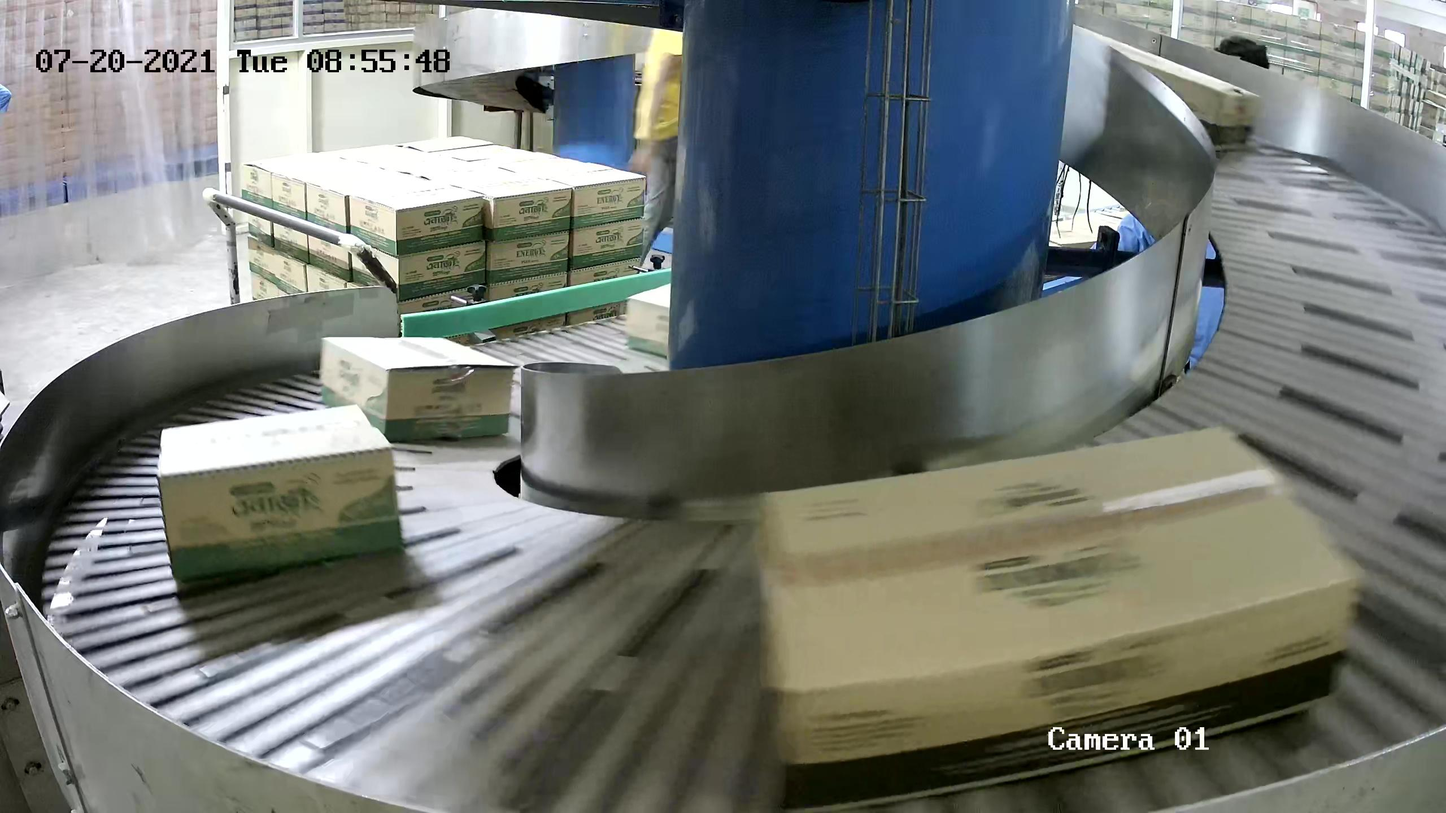Box: (747, 414, 1362, 812), (155, 402, 405, 582), (1073, 25, 1263, 151), (318, 334, 516, 443), (624, 281, 673, 358)
